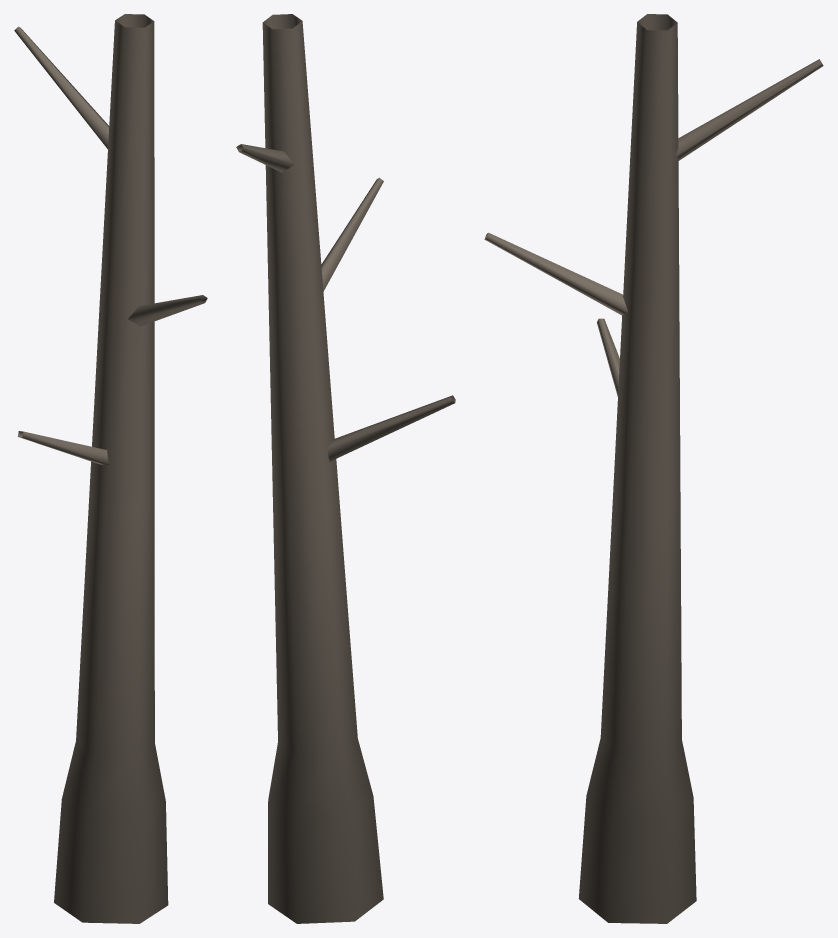
Rendered from forest-tree-snag.glb.
The picture shows the model from 3 angles, left to right: view 1: azimuth 30°, elevation 25°; view 2: azimuth 150°, elevation 25°; view 3: azimuth 270°, elevation 25°; orthographic projection. The views are drawn at different scales.
Parts seen in each view (by area): view 1: Trunk; view 2: Trunk; view 3: Trunk.
Boxes of the visible parts, x1,y1,x2,y2 form: Trunk: (14, 14, 207, 923); Trunk: (236, 14, 455, 923); Trunk: (484, 14, 823, 923).
Size of the model in its own units: 1.3 by 6.82 by 2.34.
